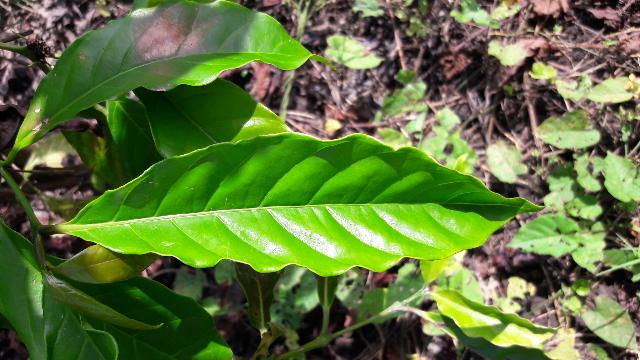healthy: (70, 133, 539, 275)
